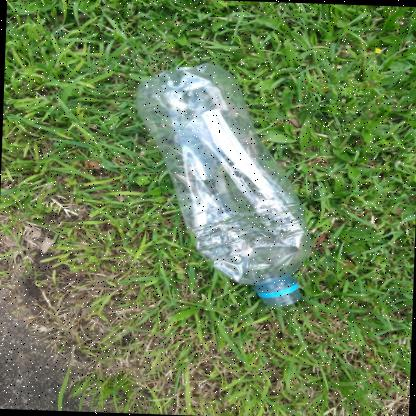Clear plastic bottle: (136, 63, 312, 307)
